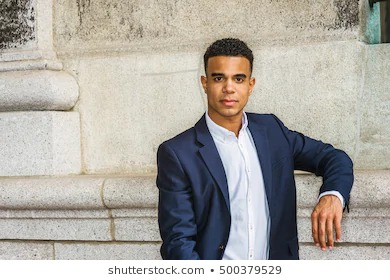F_M_suit jacket: (152, 109, 357, 258)
